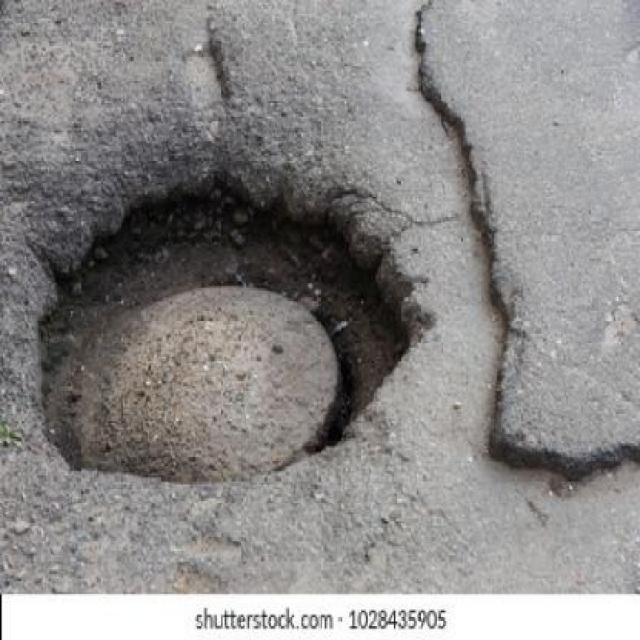Buraco: (29, 161, 434, 491)
